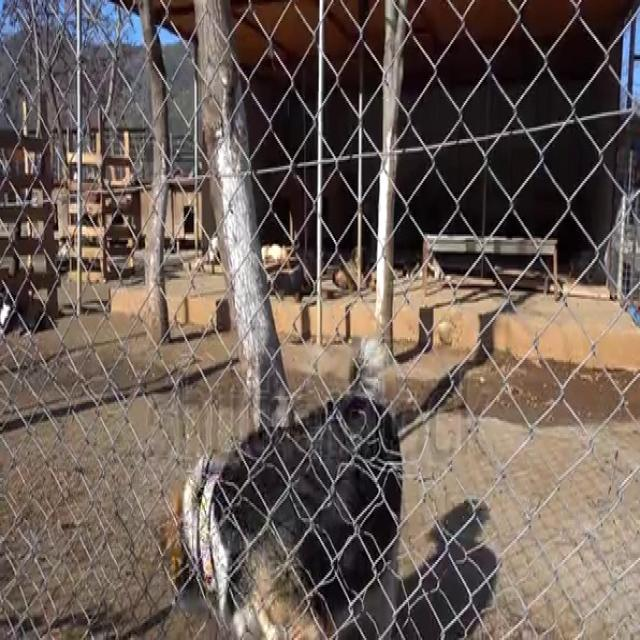normal_animals: (158, 435, 405, 632)
